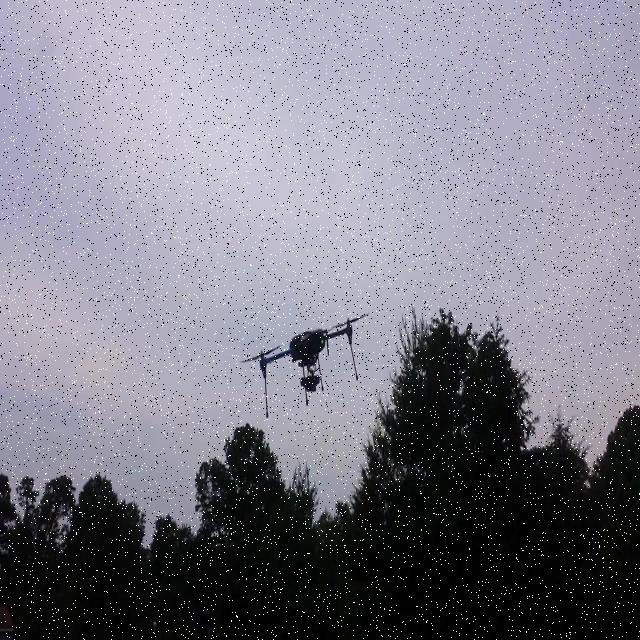UAV: (240, 311, 370, 418)
